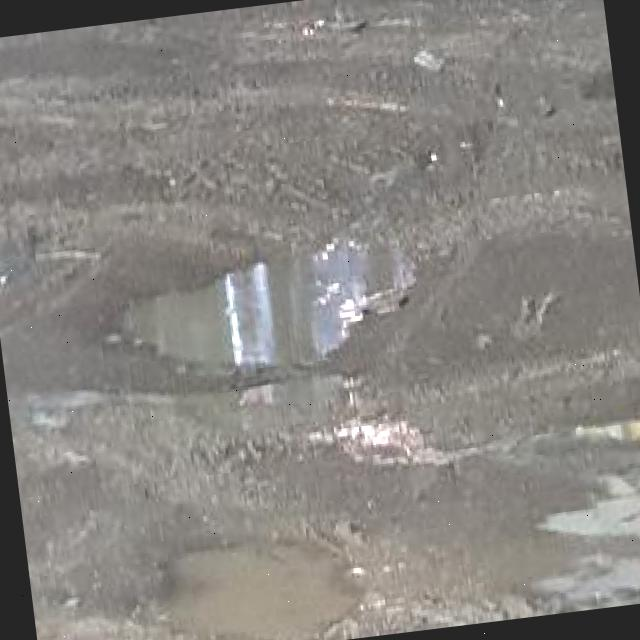stagnation: (91, 189, 448, 405)
